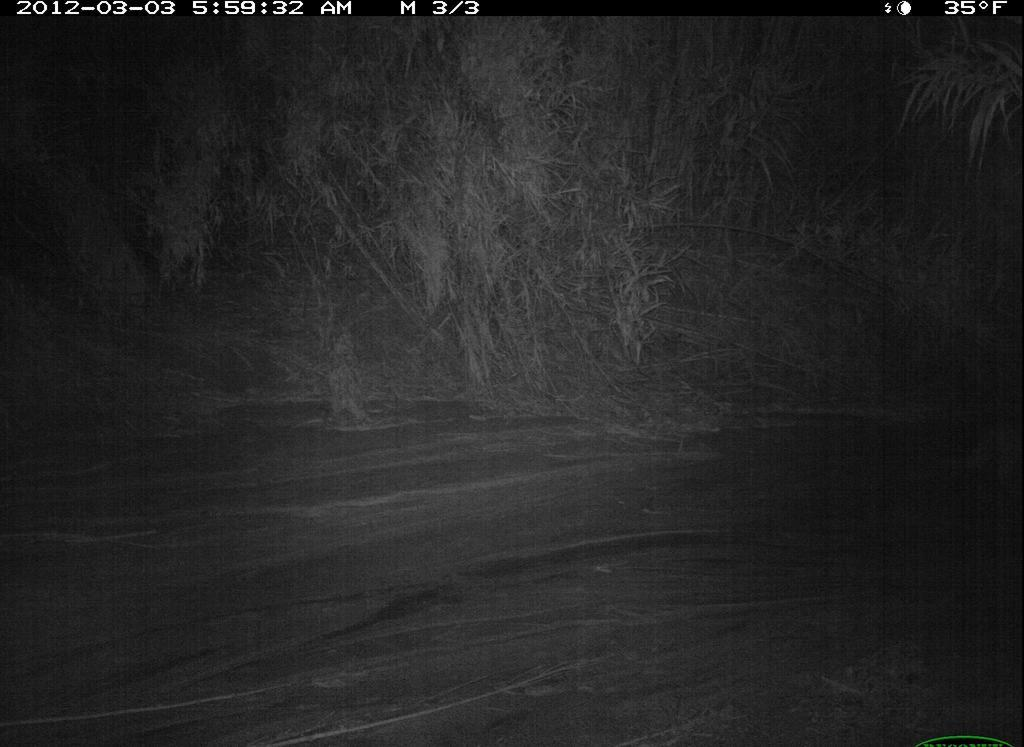bobcat: (963, 386, 1024, 501)
